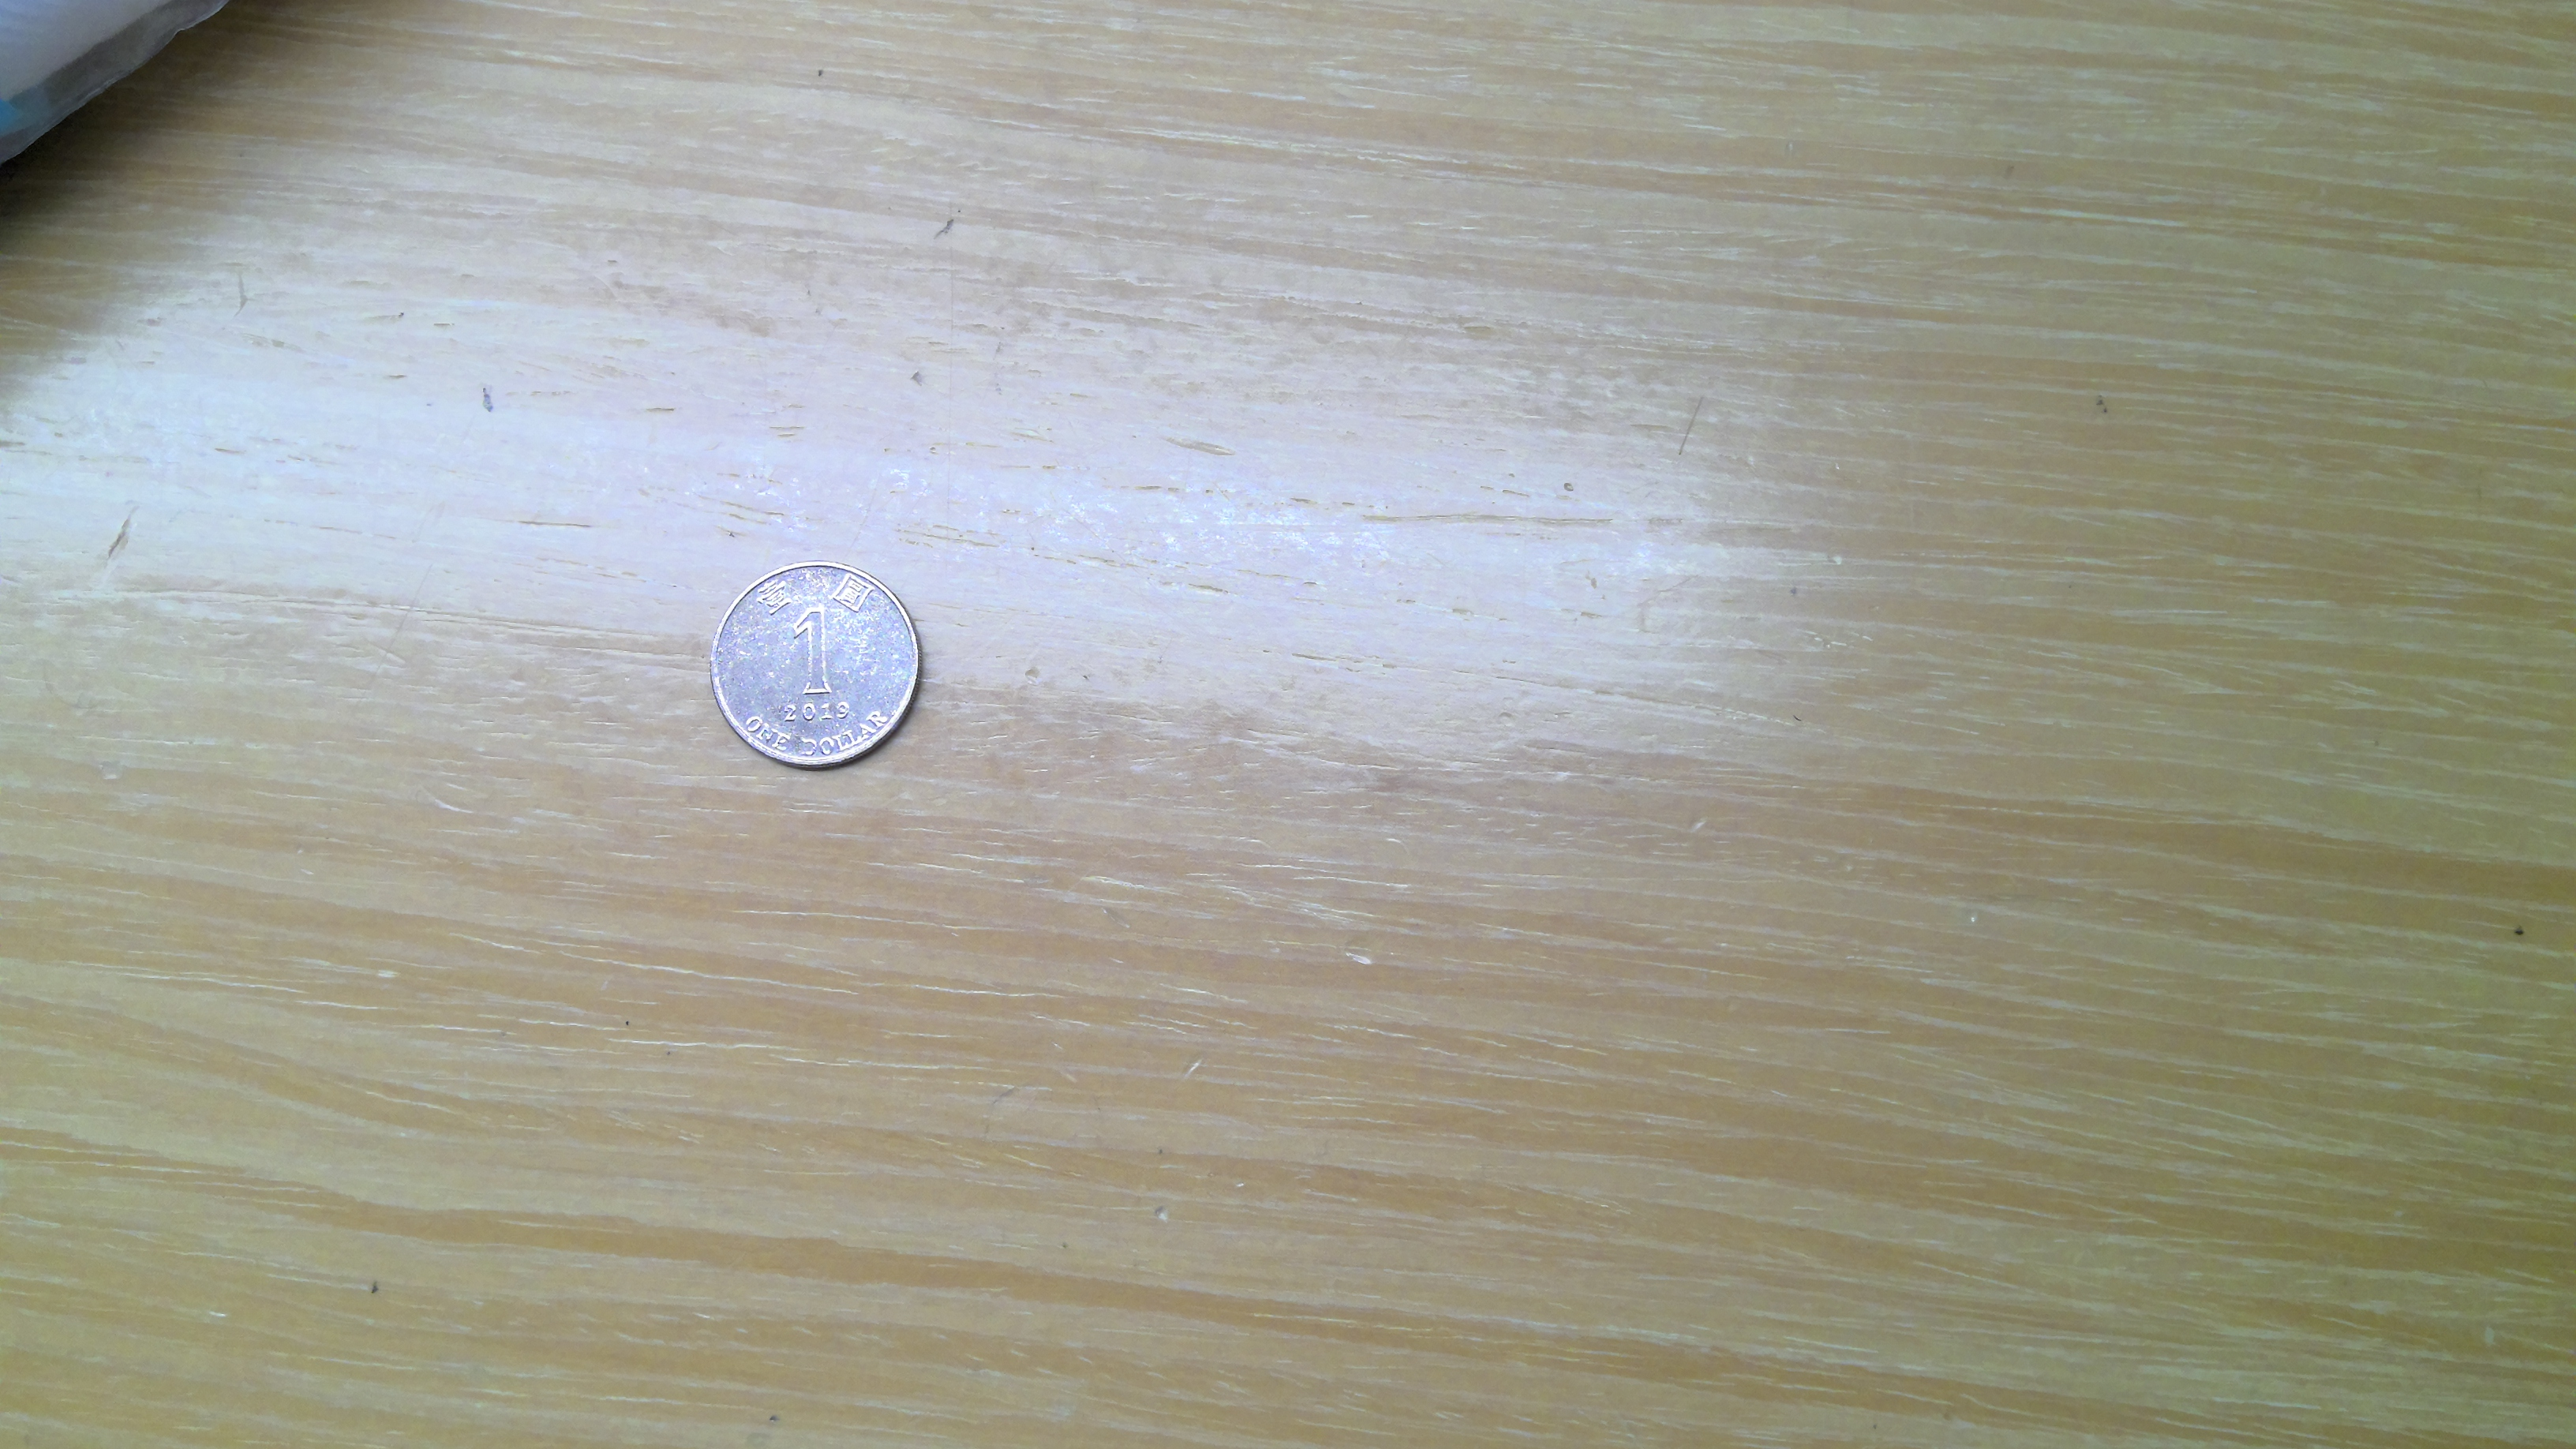one-dollar: (711, 563, 922, 771)
